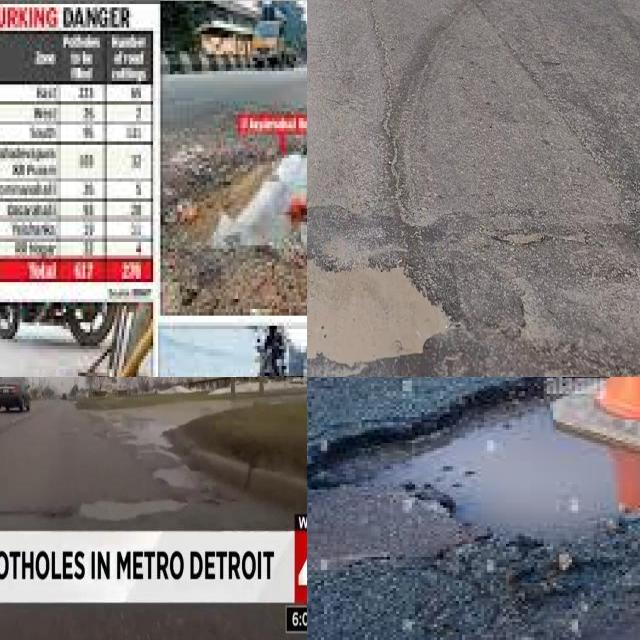Pothole: (307, 389, 640, 531), (307, 252, 454, 371), (123, 424, 208, 503), (82, 492, 180, 527)
